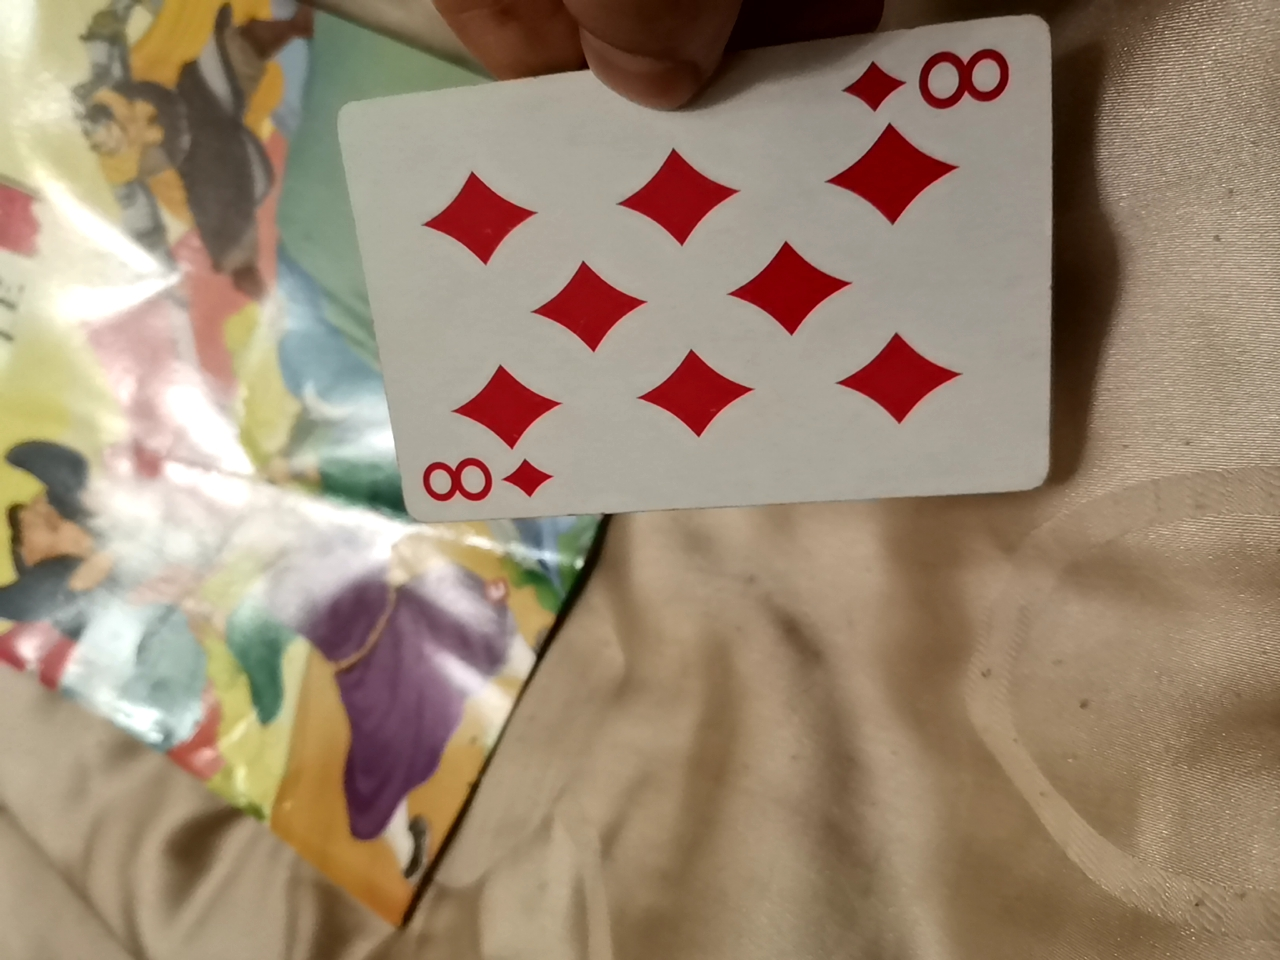fk 8: (345, 34, 1058, 529)
